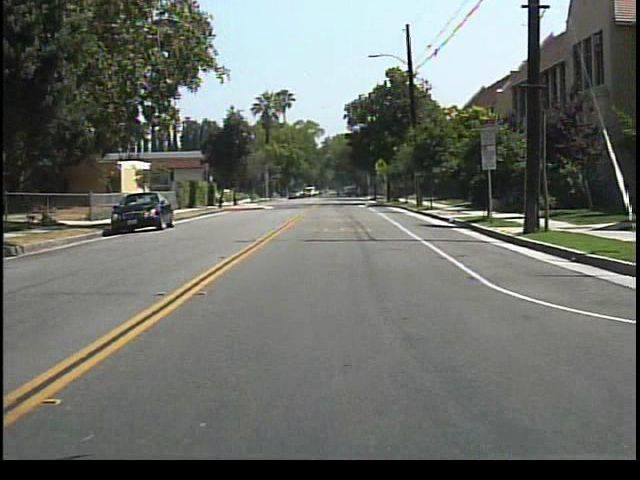person: (331, 182, 345, 199)
